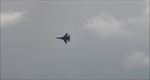maybay_muctieu: (55, 32, 72, 44)
